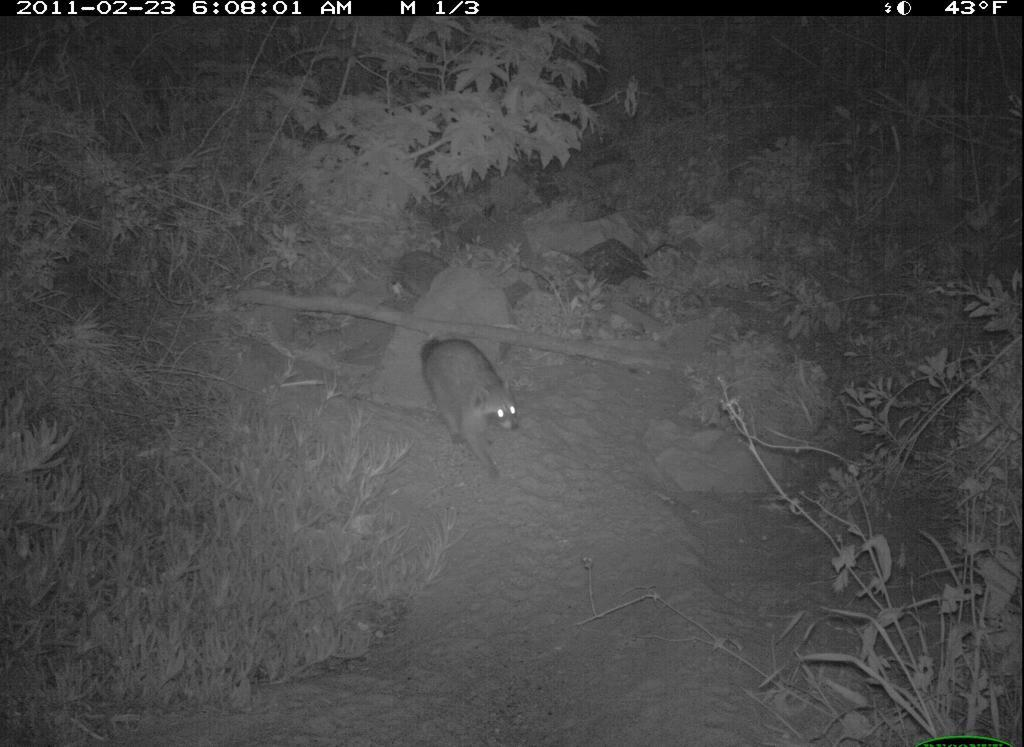raccoon: (415, 328, 525, 486)
